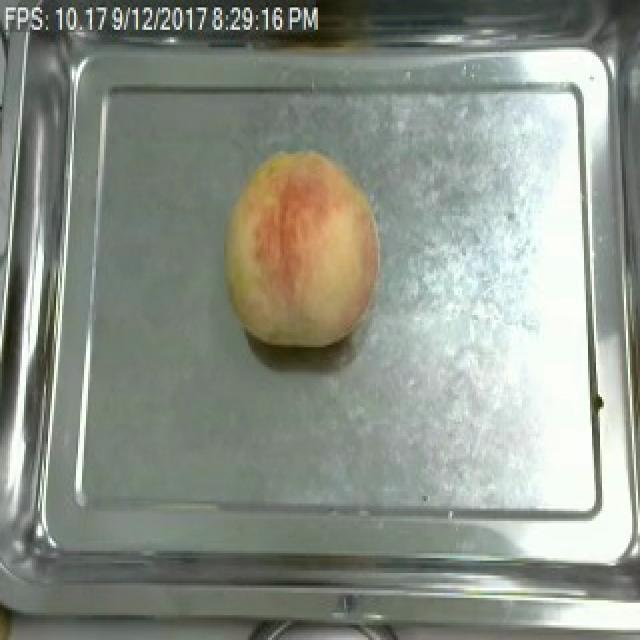Fruit: (214, 144, 388, 355)
